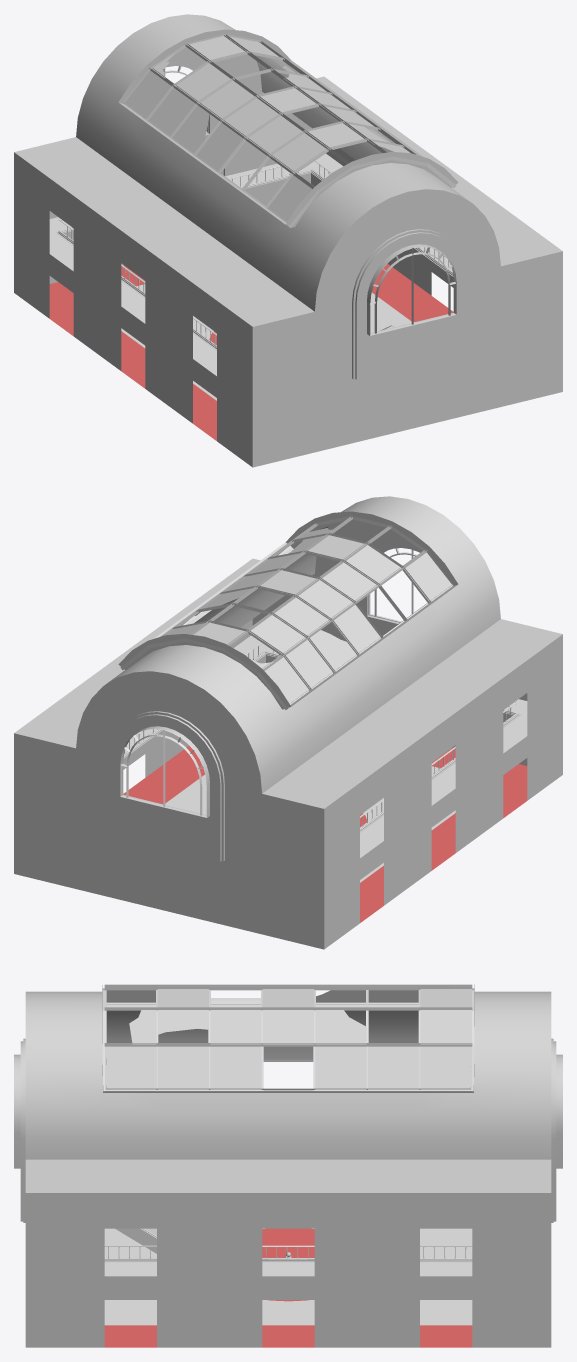
Rendered from SM_TEST_MainRoom_4.fbx.
3 views of the same model, one above another, from view 1: azimuth 30°, elevation 25°; view 2: azimuth 150°, elevation 25°; view 3: azimuth 270°, elevation 25° (orthographic). The views are drawn at different scales.
Visible parts, largest first — view 1: MainBody, Roof_Windows, Roof_Wireframe, Floor, Cantilever_Base, 1stFloor_Window_Frames, Stairs_BottomDecoration; view 2: MainBody, Roof_Windows, Roof_Wireframe, Floor, Cantilever_Base, 1stFloor_Window_Frames; view 3: MainBody, Roof_Windows, Floor, Roof_Wireframe, Cantilever_Base, Stairs_BottomDecoration.
Boxes of the visible parts, x1,y1,x2,y2 form: MainBody: [14, 14, 562, 467]; Roof_Windows: [124, 36, 410, 222]; Roof_Wireframe: [124, 34, 456, 227]; Floor: [49, 263, 453, 440]; Cantilever_Base: [49, 153, 453, 375]; 1stFloor_Window_Frames: [163, 66, 456, 335]; Stairs_BottomDecoration: [58, 169, 453, 348]; MainBody: [14, 496, 562, 949]; Roof_Windows: [166, 528, 452, 704]; Roof_Wireframe: [120, 516, 452, 709]; Floor: [123, 745, 527, 922]; Cantilever_Base: [123, 635, 527, 857]; 1stFloor_Window_Frames: [120, 548, 416, 817]; MainBody: [14, 991, 562, 1347]; Roof_Windows: [105, 986, 471, 1090]; Floor: [104, 1228, 472, 1347]; Roof_Wireframe: [102, 984, 474, 1092]; Cantilever_Base: [104, 1261, 472, 1276]; Stairs_BottomDecoration: [104, 1228, 472, 1261].
Bounding box in the file's own units: 30 × 23.97 × 41.8.
